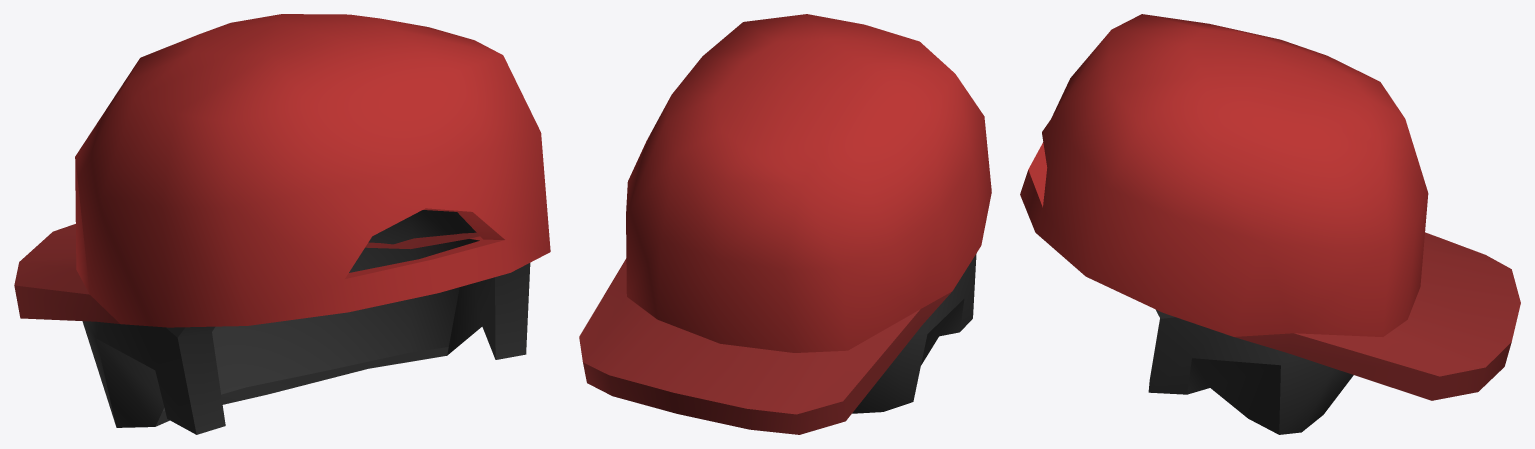
File: Male_Hat_02.fbx
The picture shows the model from 3 angles, left to right: view 1: azimuth 30°, elevation 25°; view 2: azimuth 150°, elevation 25°; view 3: azimuth 270°, elevation 25°; orthographic projection. The views are drawn at different scales.
Parts seen in each view (by area): view 1: Male_Hat_02; view 2: Male_Hat_02; view 3: Male_Hat_02.
Boxes of the visible parts, x1,y1,x2,y2 form: Male_Hat_02: [14, 14, 550, 434]; Male_Hat_02: [579, 14, 991, 434]; Male_Hat_02: [1020, 14, 1520, 434].
Bounding box in the file's own units: 55.5 × 57.66 × 76.03.
